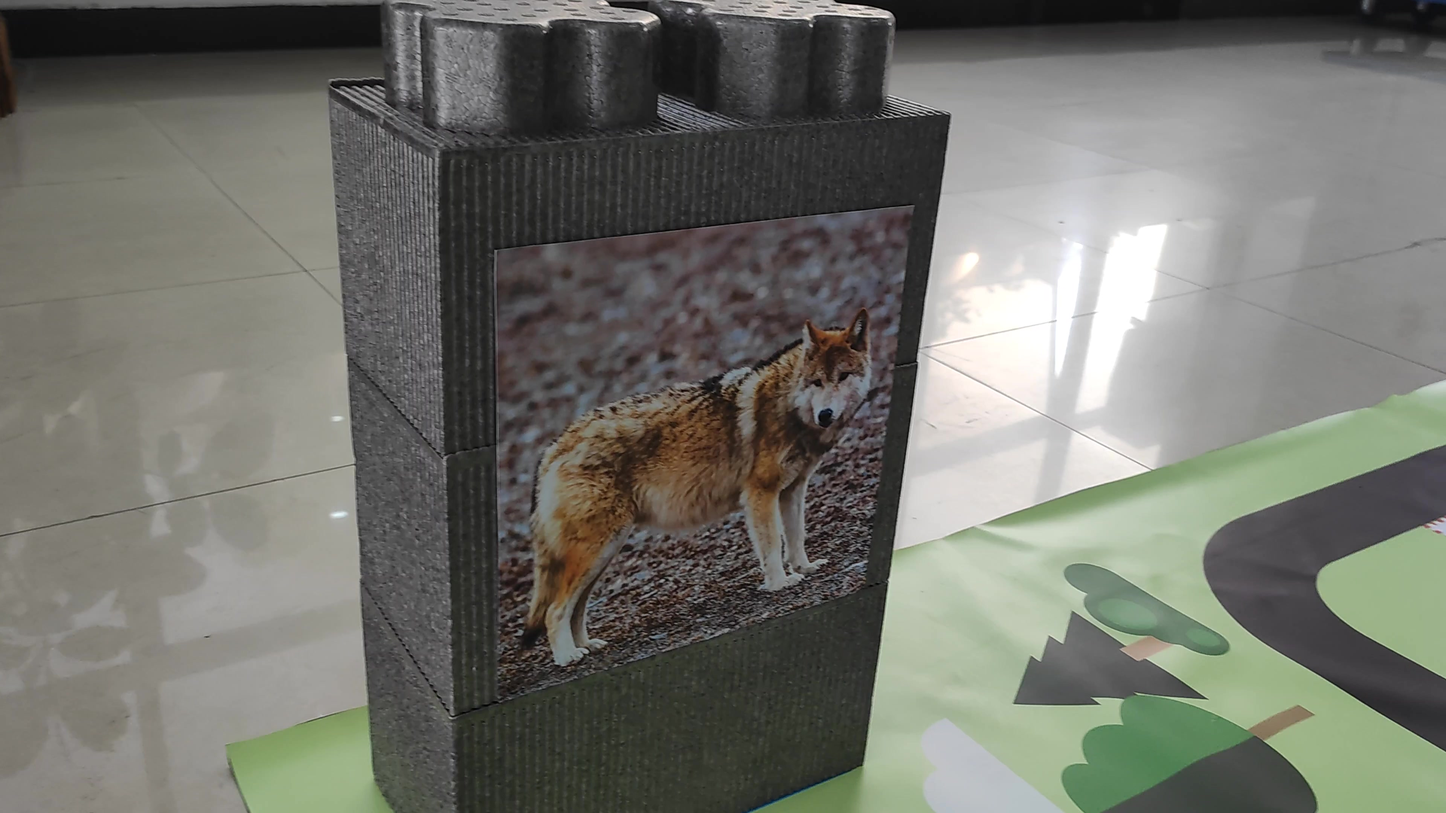wolf: (496, 287, 880, 641)
